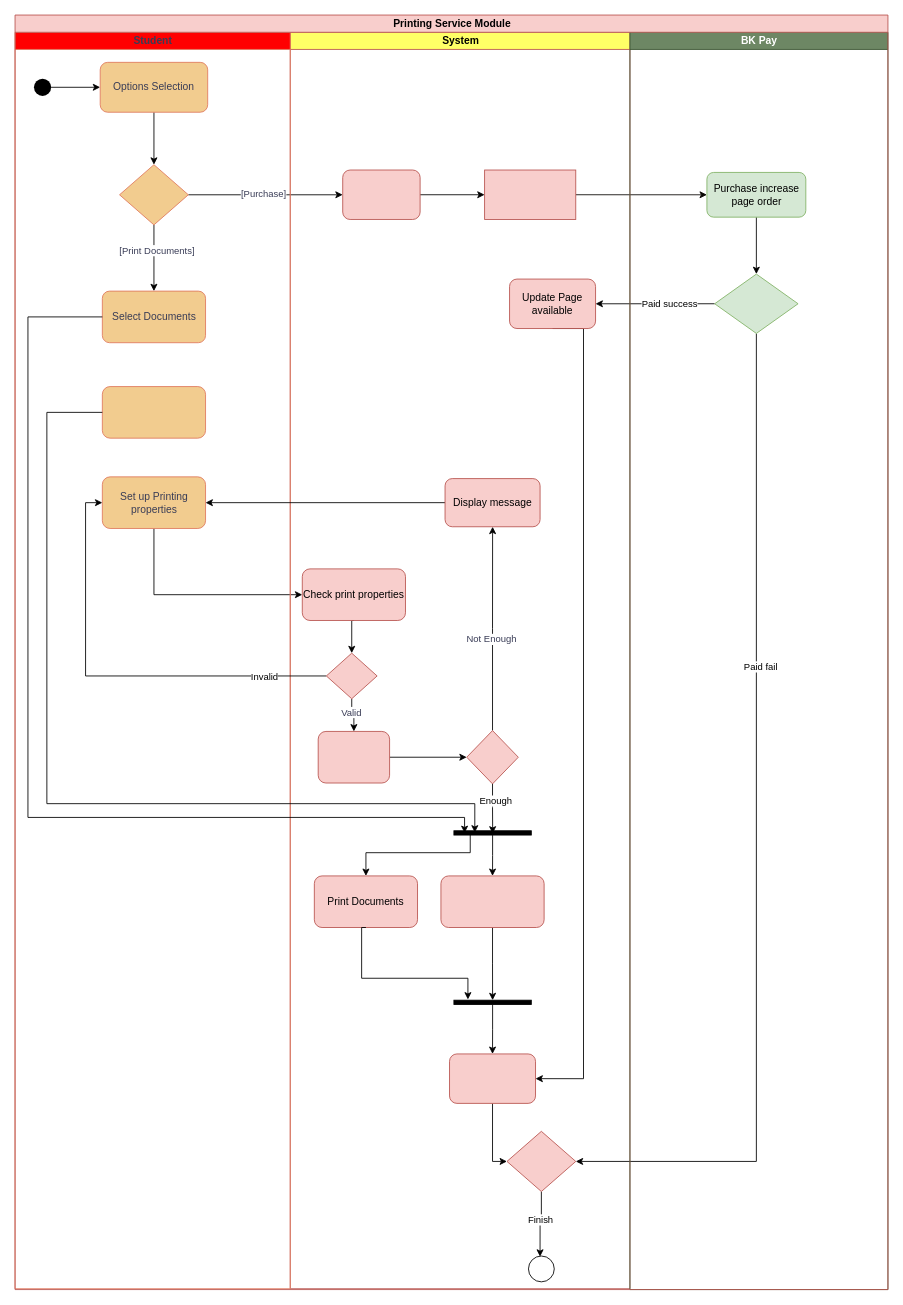
Some shapes in this 903 by 1305 pixel diagram are drawn without their labels. The shapes that lost their labels are listed below. From the top down, each one's centre as x and y in pixels, then its label:
At pixel 381 194: "Create number of pages to Purchase".
At pixel 530 194: "Create order".
At pixel 153 412: "Select Printers".
At pixel 353 757: "Check available page".
At pixel 492 901: "Update Remaining Pages".
At pixel 492 1078: "Log Activity".
